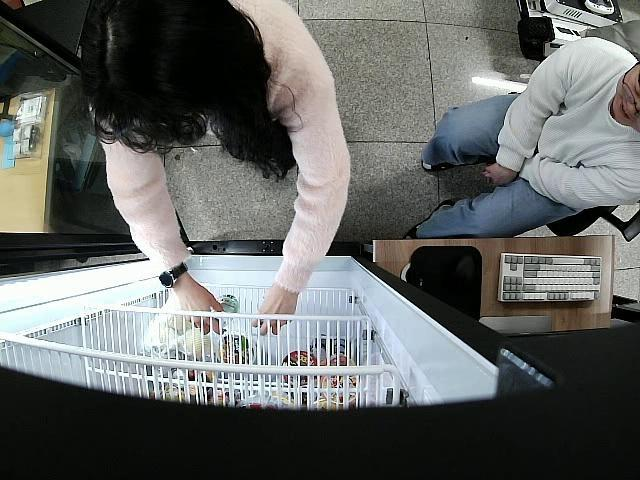18_trevi: (216, 292, 239, 328)
